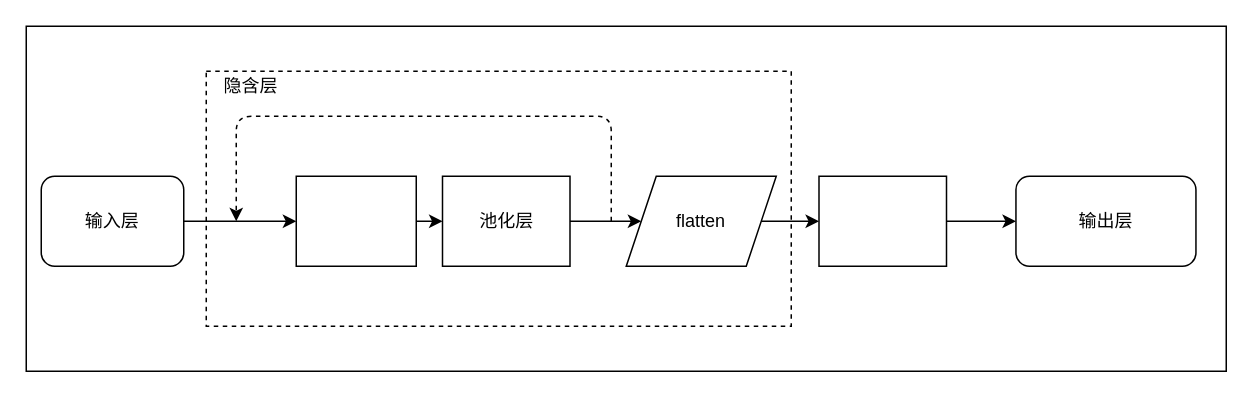
Some shapes in this 1253 by 398 pixel diagram are drawn without their labels. Each missing label, with the centre of its shape:
"全连接层" goes at (x=882, y=220).
"卷积层" goes at (x=355, y=220).
